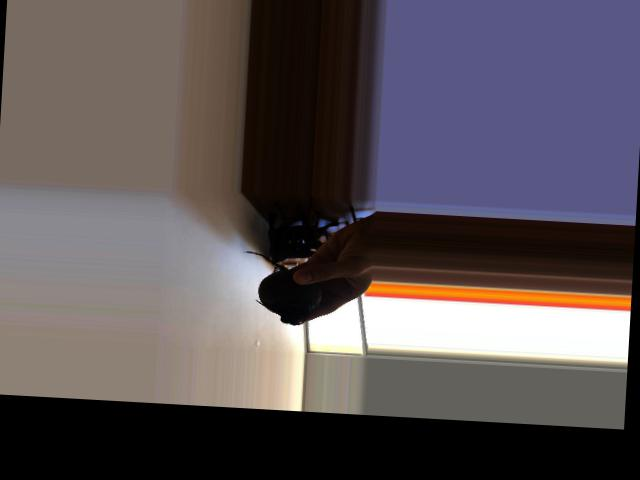beet: (239, 250, 323, 326)
